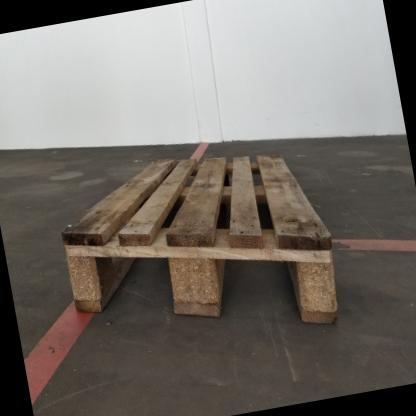BoxFace: (56, 145, 342, 328)
